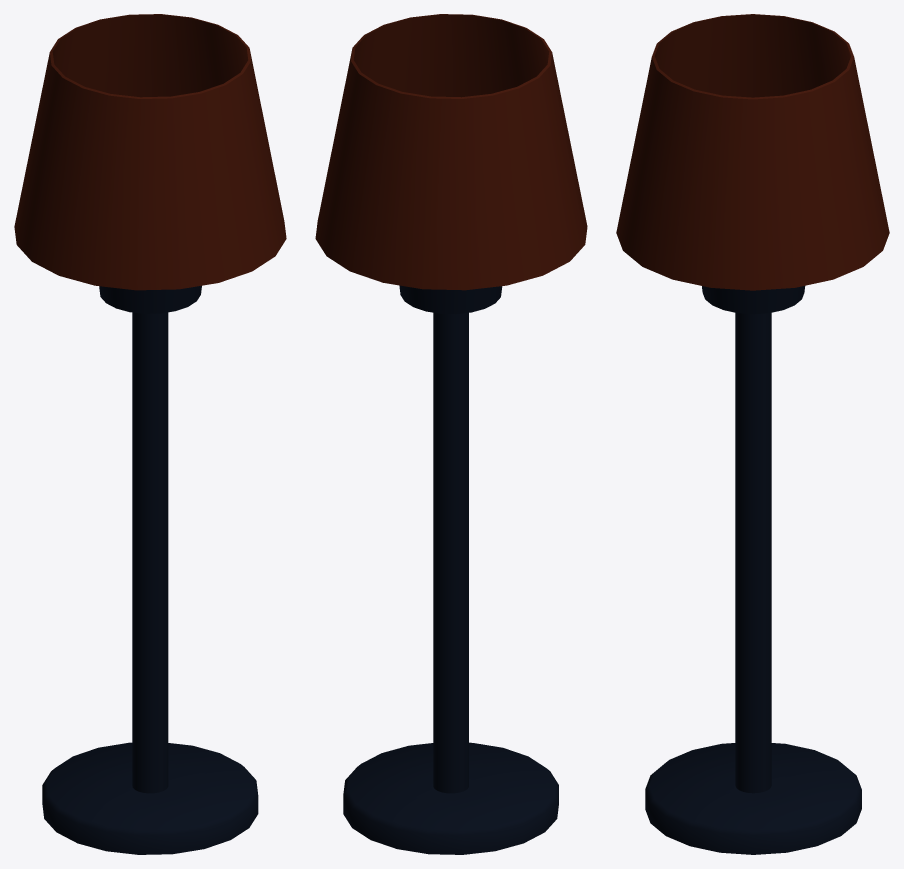
The model's file is PH-Lamp.fbx.
3 views of the same model, side by side, from view 1: azimuth 30°, elevation 25°; view 2: azimuth 150°, elevation 25°; view 3: azimuth 270°, elevation 25° (orthographic).
Visible parts, largest first — view 1: PH-Lamp; view 2: PH-Lamp; view 3: PH-Lamp.
Boxes of the visible parts, x1,y1,x2,y2 form: PH-Lamp: (14, 14, 286, 854); PH-Lamp: (315, 14, 587, 854); PH-Lamp: (616, 14, 889, 854).
Size of the model in its own units: 63.08 by 192 by 63.08.
